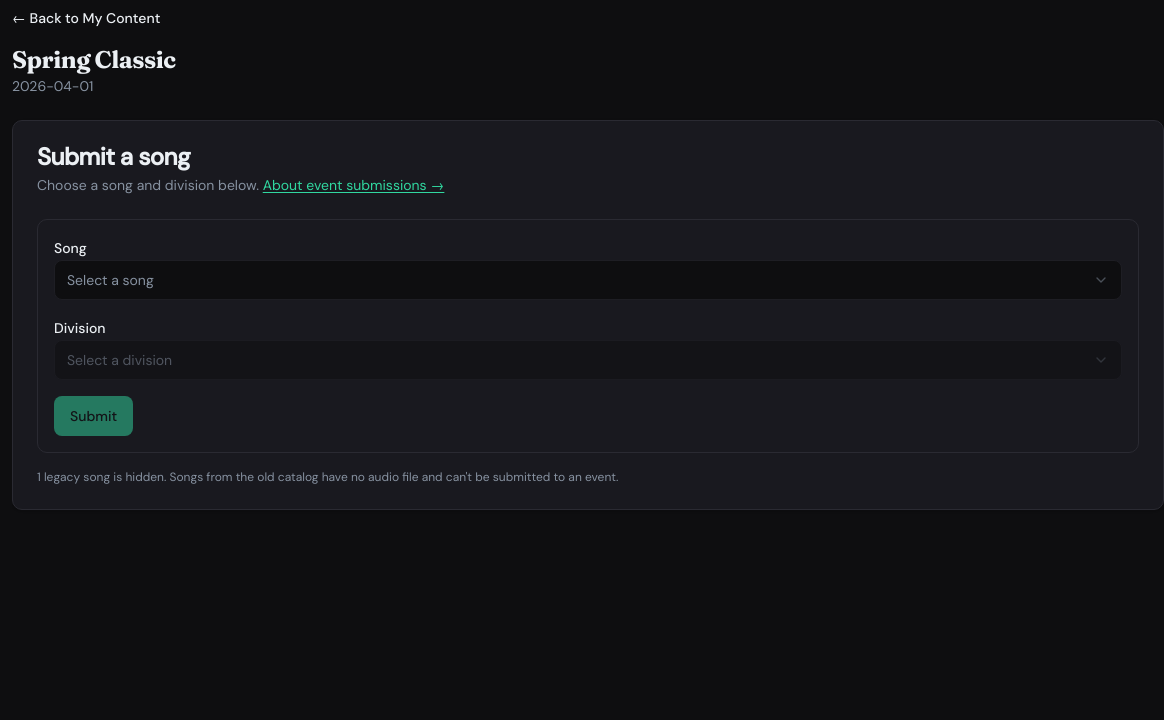
Test case: EventSubmissionsPage — event page › hides legacy songs and says how many were hidden
The width and height of the screenshot is (1164, 720).
Click the dropdown labelled "Select a song" at point(110, 280), box [54,260,1122,300]
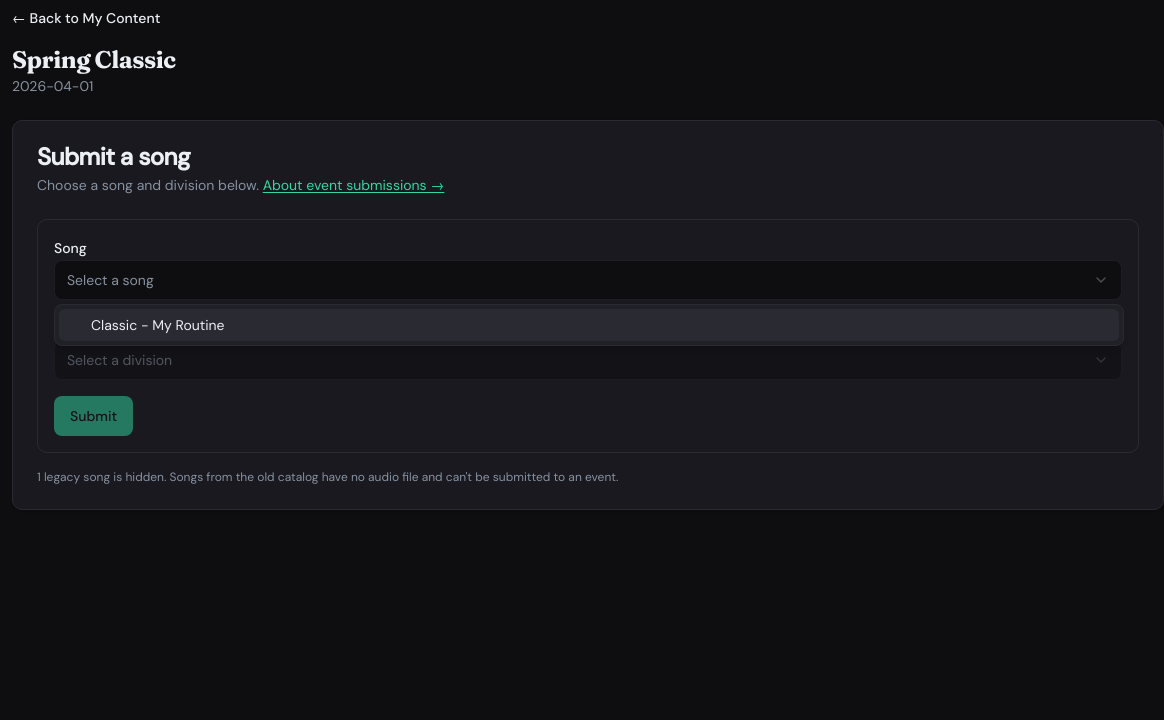
Expected: the text "1 legacy song is hidden" is shown, [37,469,618,485]
Now the option "Classic - My Routine" is shown, box [59,309,1119,341]
